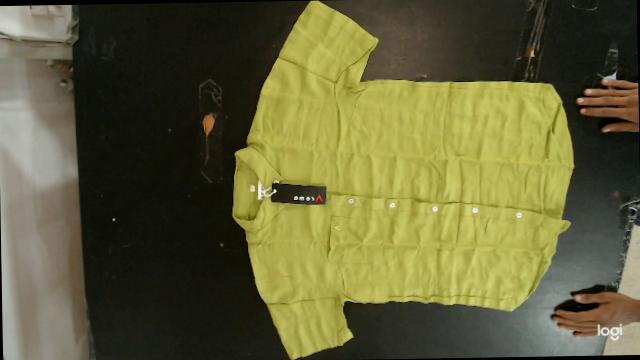new-garment: (233, 0, 573, 359)
